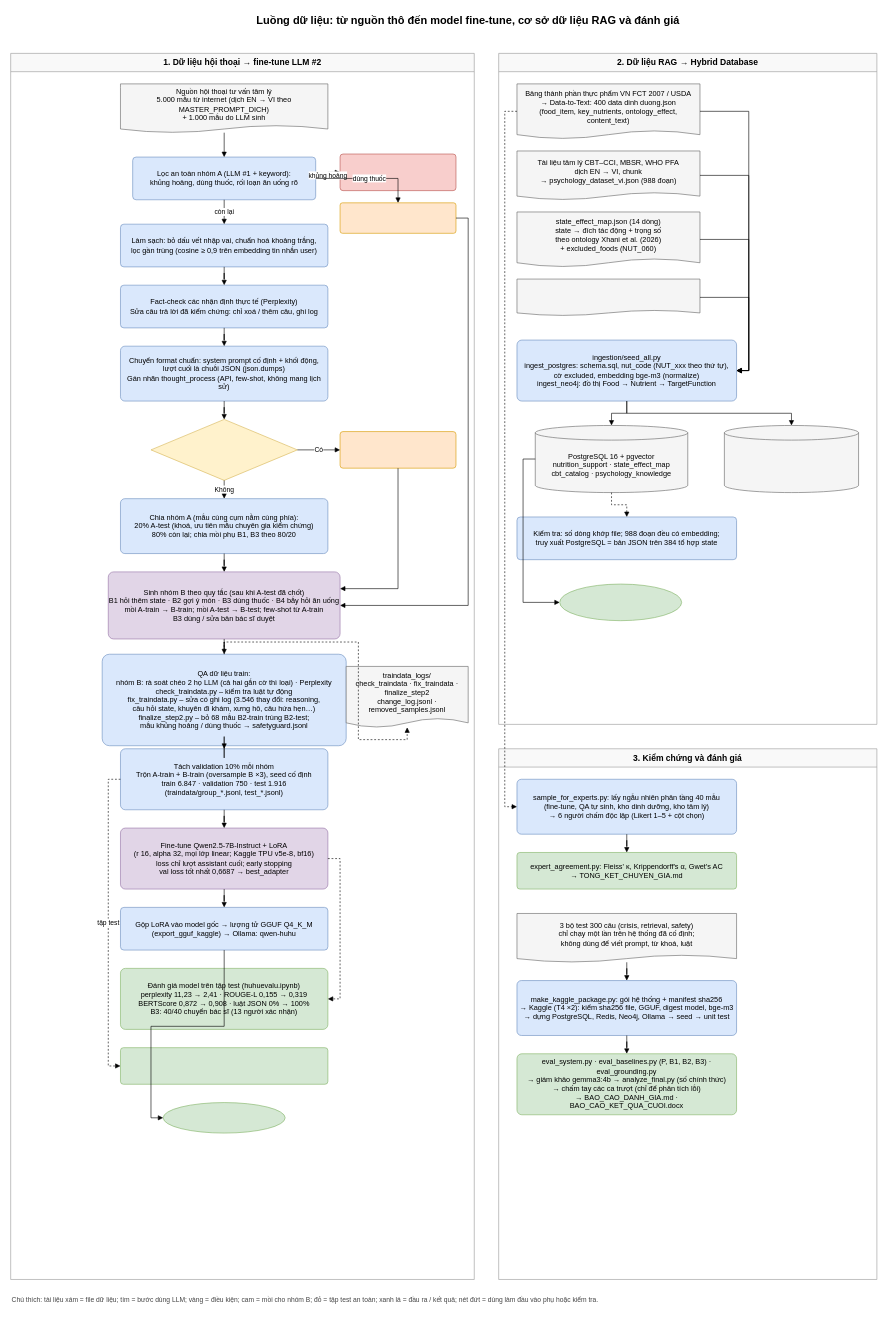
The diagram is 888 pixels wide and 1326 high, and some of its shapes have lost their labels. Here are the shapes that lost their labels. From the top down, the centre of each, then its label:
At (x=397, y=172): "Tập test Safety Detector (mẫu khủng hoảng)".
At (x=397, y=217): "Mồi B3 (mẫu dùng thuốc)".
At (x=608, y=297): "cbt_catalog.json 10 kỹ thuật CBT / chánh niệm".
At (x=223, y=449): "side_talk < 20 từ và không có câu hỏi?".
At (x=397, y=449): "Mồi B1 (câu trả lời quá ngắn)".
At (x=791, y=459): "Neo4j 5.18 (435 node; trực quan hoá, hybrid_retriever)".
At (x=620, y=602): "Truy xuất của hệ thống (StateRetriever)".
At (x=224, y=1065): "Grounding và định tuyến qua nhiều lượt trên test_B_B1..B4 (eval_grounding.py)".
At (x=224, y=1117): "LLM #2 của hệ thống".
